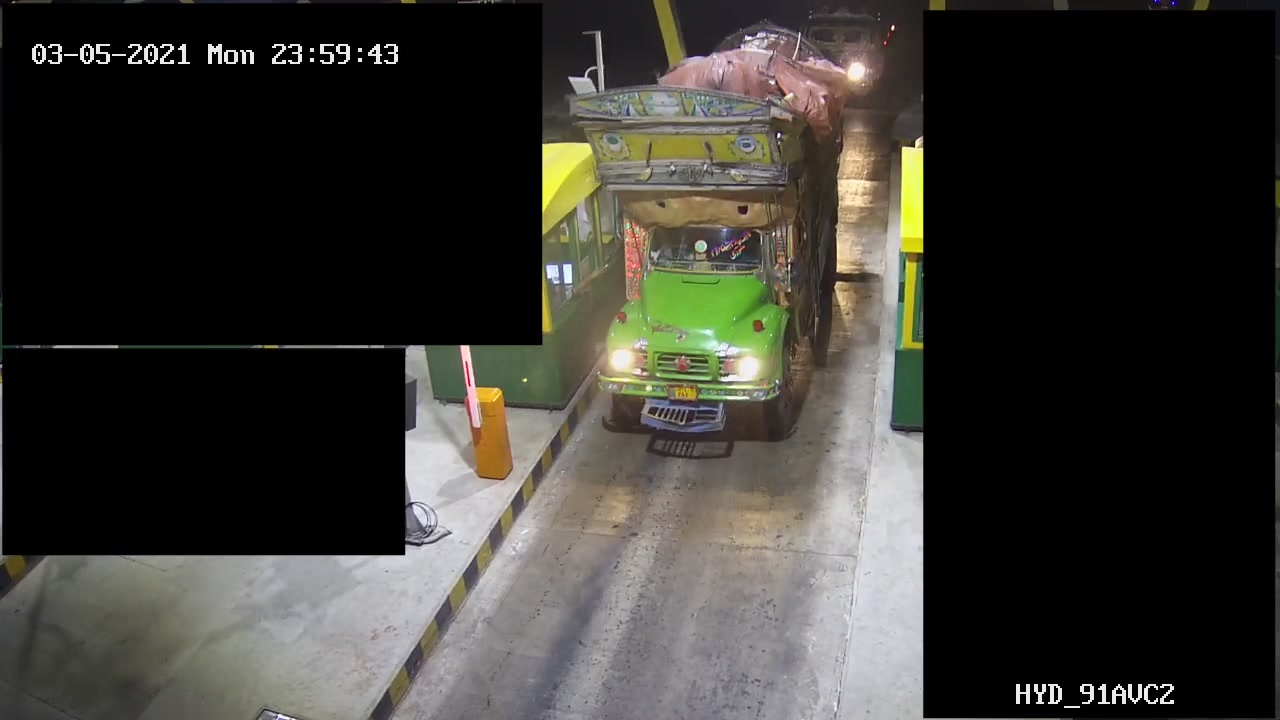F5: (563, 10, 853, 475)
